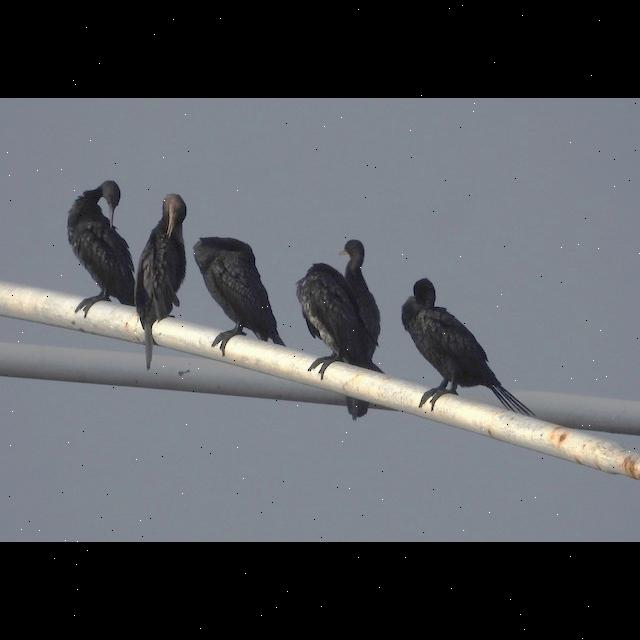cormorant: (396, 276, 538, 424), (190, 226, 282, 354), (64, 175, 136, 317), (134, 186, 188, 370)
